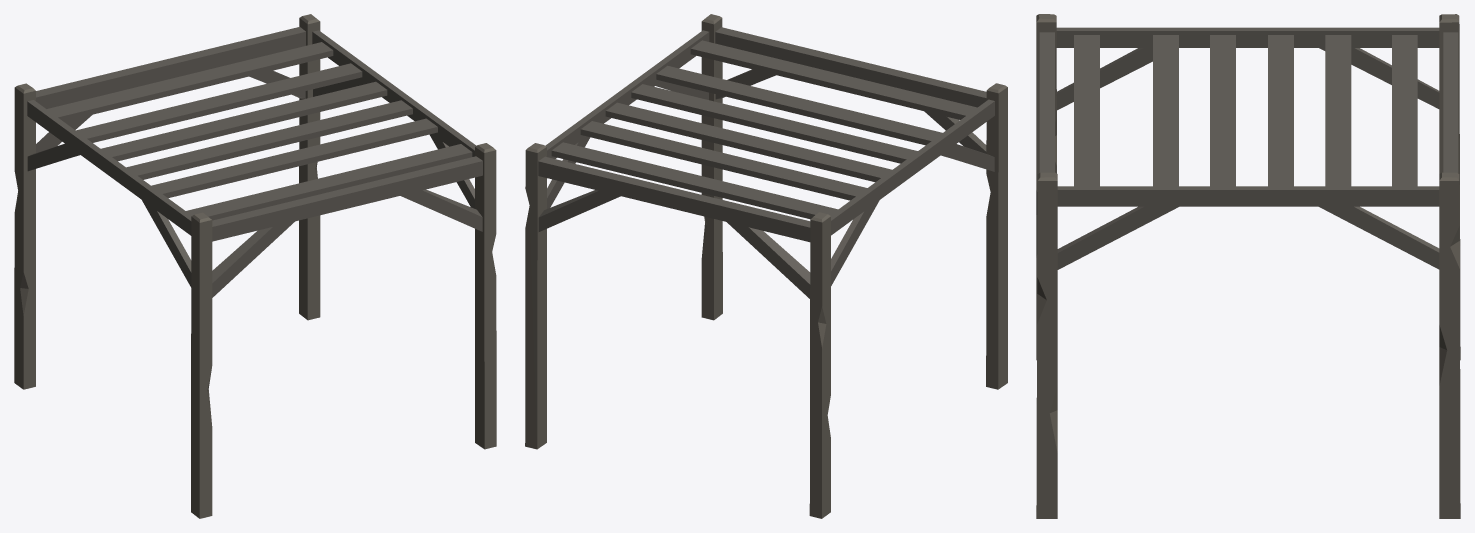
File: SM_Bld_Village_ClothCover_Large_02.glb
The picture shows the model from 3 angles, left to right: view 1: azimuth 30°, elevation 25°; view 2: azimuth 150°, elevation 25°; view 3: azimuth 270°, elevation 25°; orthographic projection. The views are drawn at different scales.
Parts seen in each view (by area): view 1: SM_Bld_Village_ClothCover_Large_02; view 2: SM_Bld_Village_ClothCover_Large_02; view 3: SM_Bld_Village_ClothCover_Large_02.
Boxes of the visible parts, x1,y1,x2,y2 form: SM_Bld_Village_ClothCover_Large_02: [14, 14, 496, 518]; SM_Bld_Village_ClothCover_Large_02: [525, 14, 1007, 518]; SM_Bld_Village_ClothCover_Large_02: [1036, 14, 1460, 518].
Size of the model in its own units: 4.17 by 4 by 4.52.
1 material, 1 textured.
